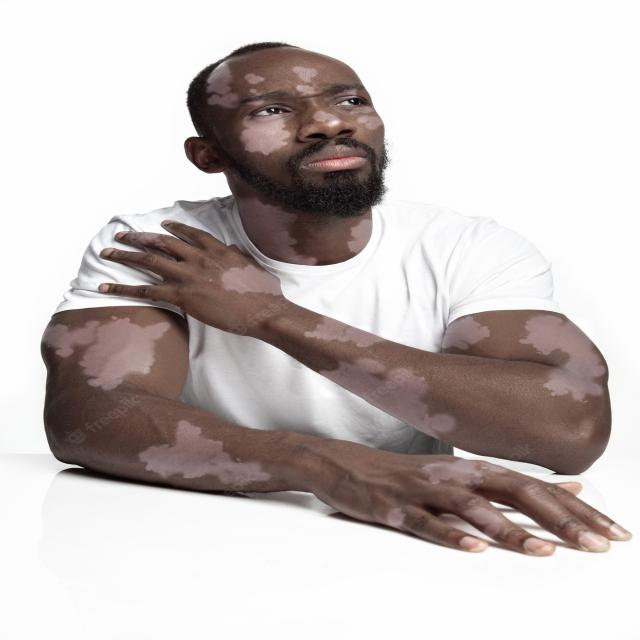vitiligo: (54, 309, 549, 540), (172, 253, 616, 478), (197, 70, 391, 244)
